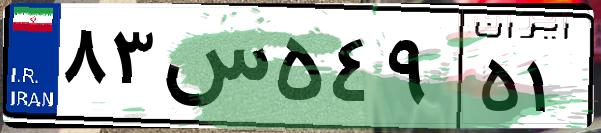1: (525, 38, 570, 115)
3: (110, 28, 158, 98)
4: (330, 28, 385, 110)
5: (270, 28, 330, 110), (475, 38, 525, 113)
8: (57, 26, 110, 100)
9: (385, 28, 445, 110)
س: (158, 20, 270, 120)
